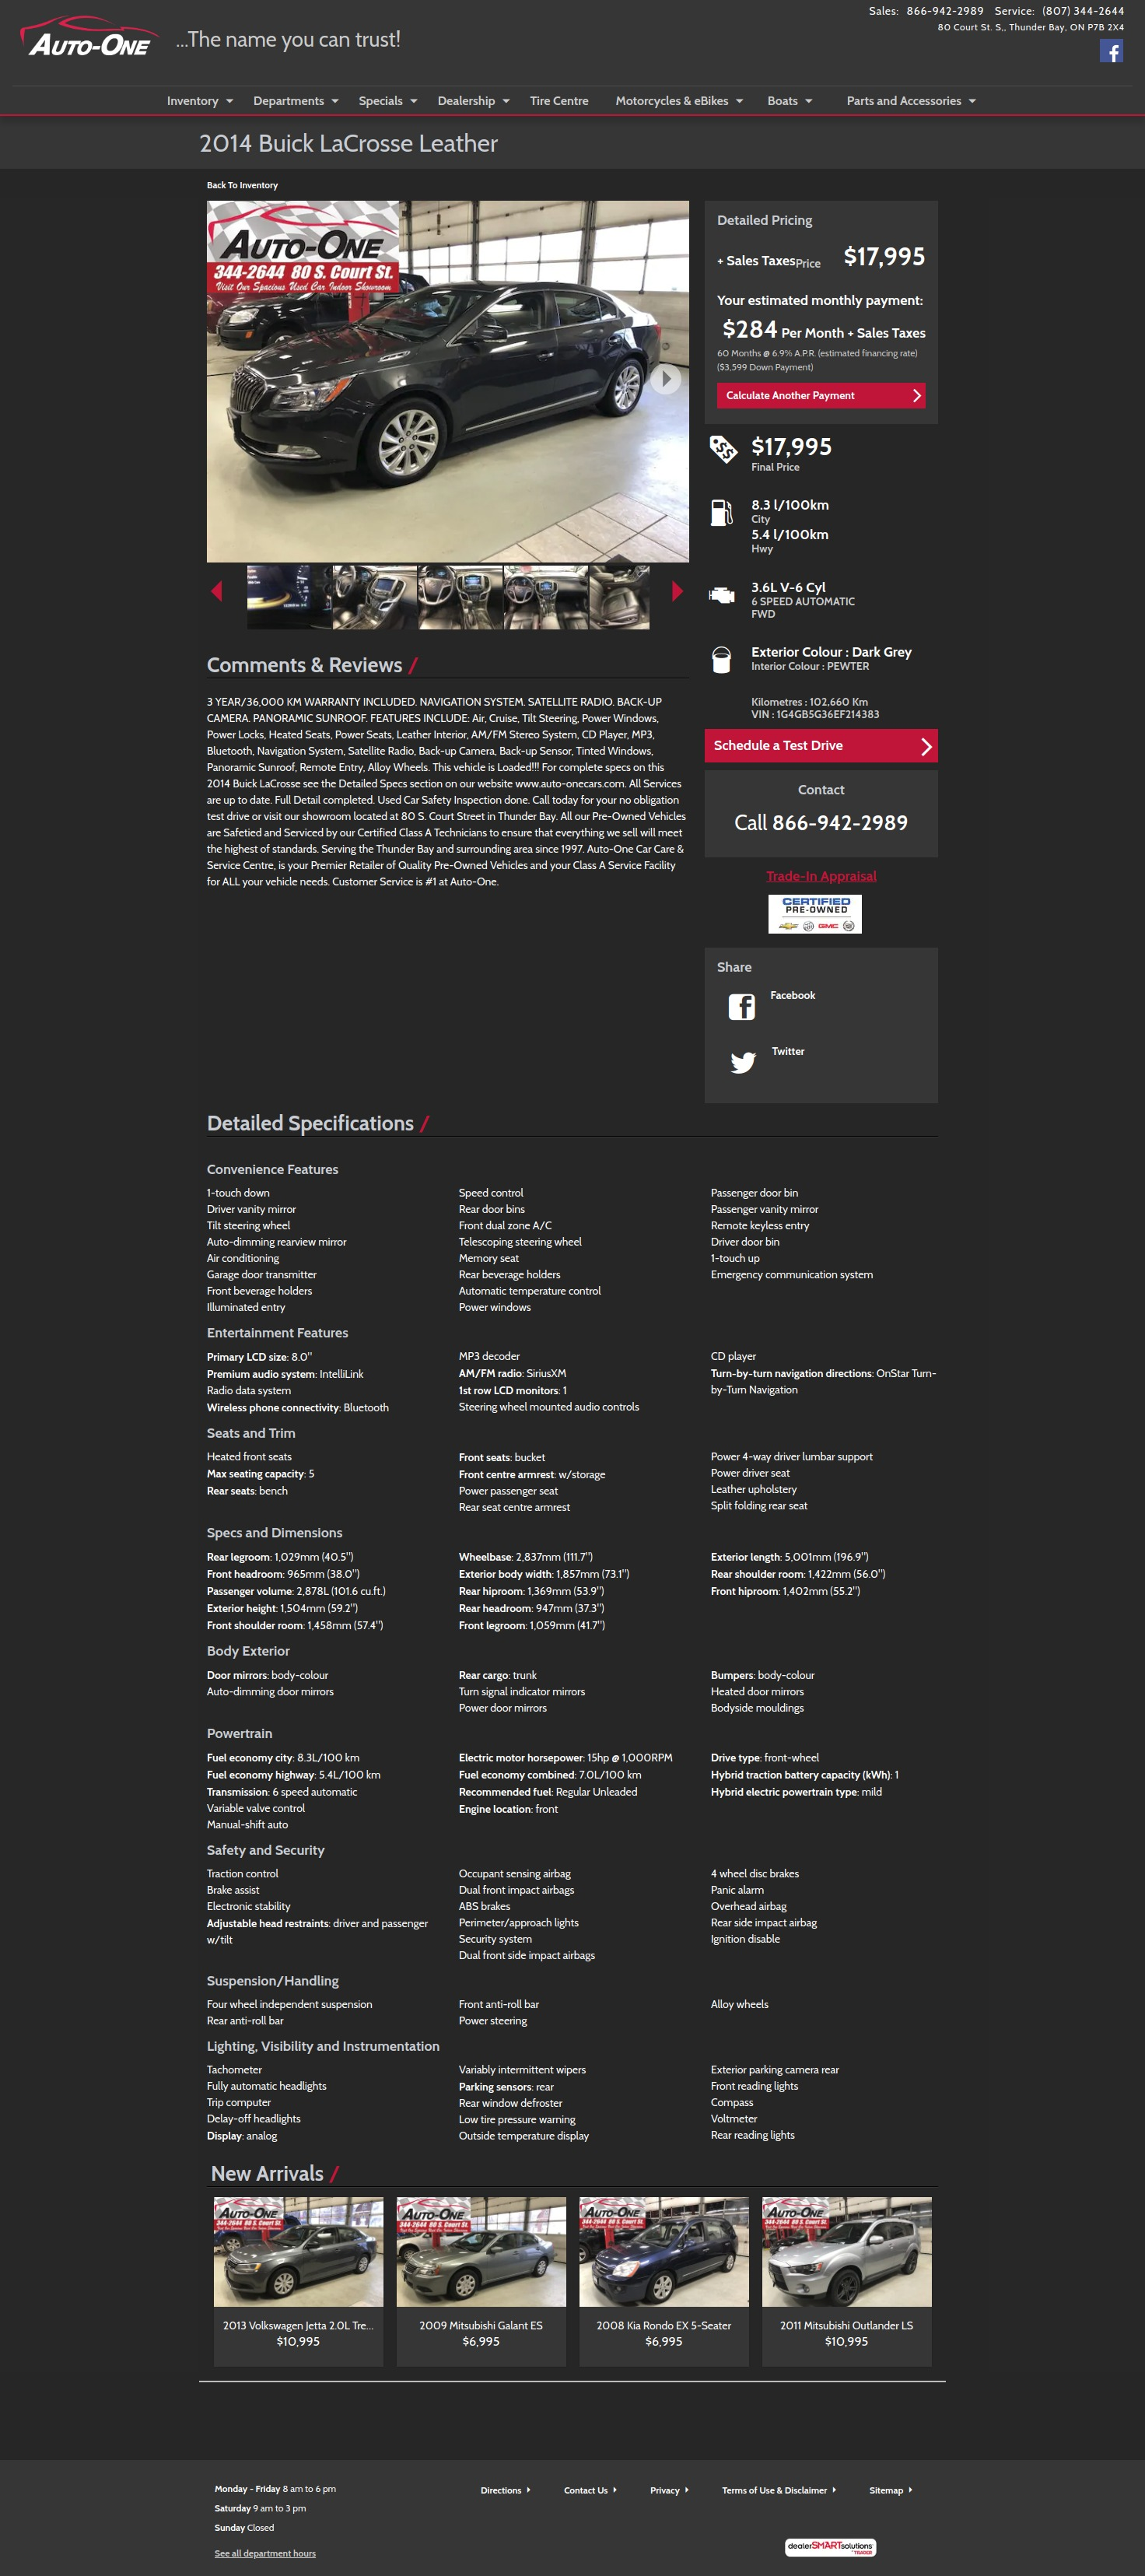car: (670, 580, 685, 603)
